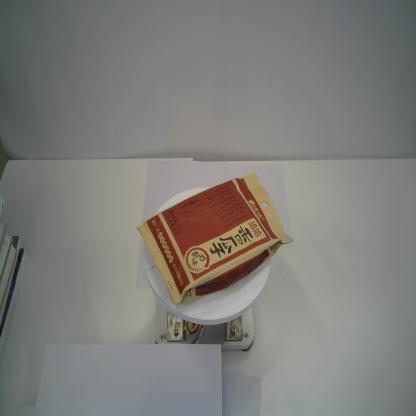Dried Food: (137, 172, 294, 306)
